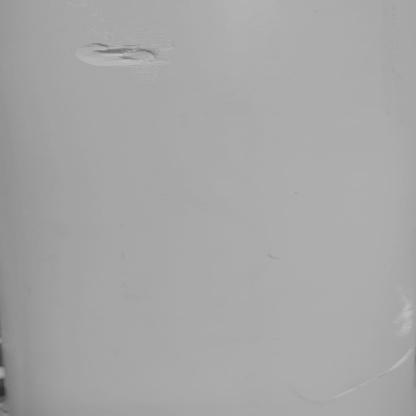sunshang: (323, 339, 416, 403), (76, 41, 157, 68), (392, 297, 416, 339)
